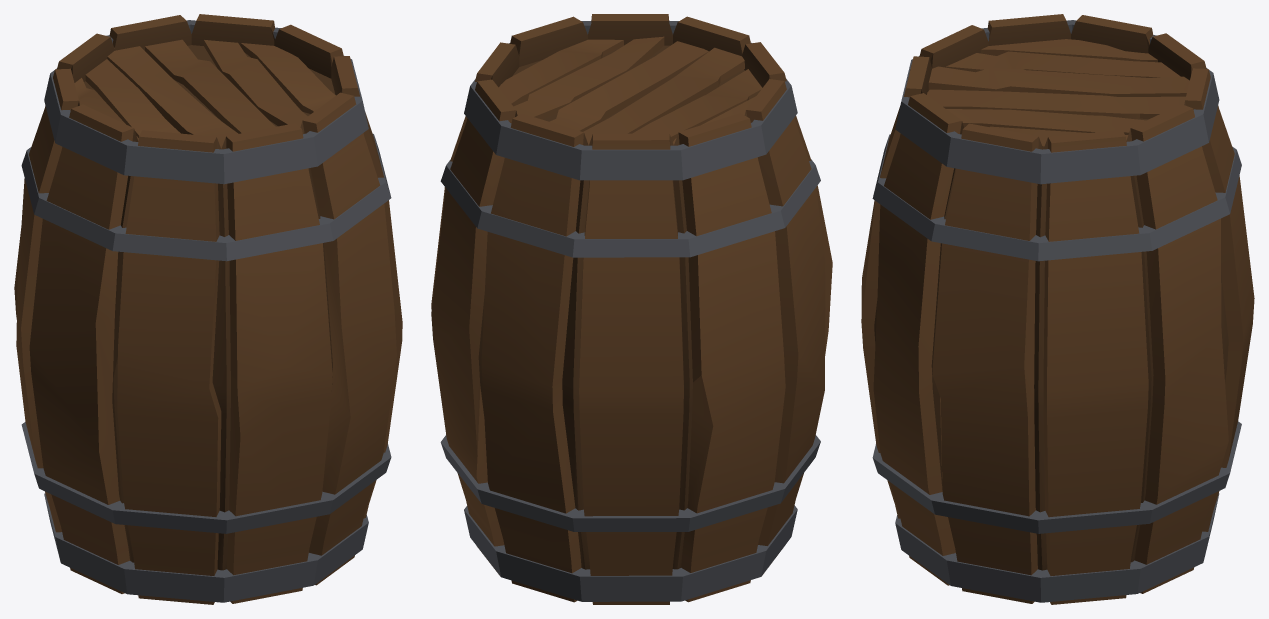
The model's file is barrel.glb.
The picture shows the model from 3 angles, left to right: view 1: azimuth 30°, elevation 25°; view 2: azimuth 150°, elevation 25°; view 3: azimuth 270°, elevation 25°; orthographic projection.
Parts seen in each view (by area): view 1: Barrel; view 2: Barrel; view 3: Barrel.
Boxes of the visible parts, x1,y1,x2,y2 form: Barrel: (14, 14, 402, 604); Barrel: (431, 14, 832, 604); Barrel: (861, 14, 1254, 604).
Size of the model in its own units: 0.1582 by 0.2043 by 0.1568.
